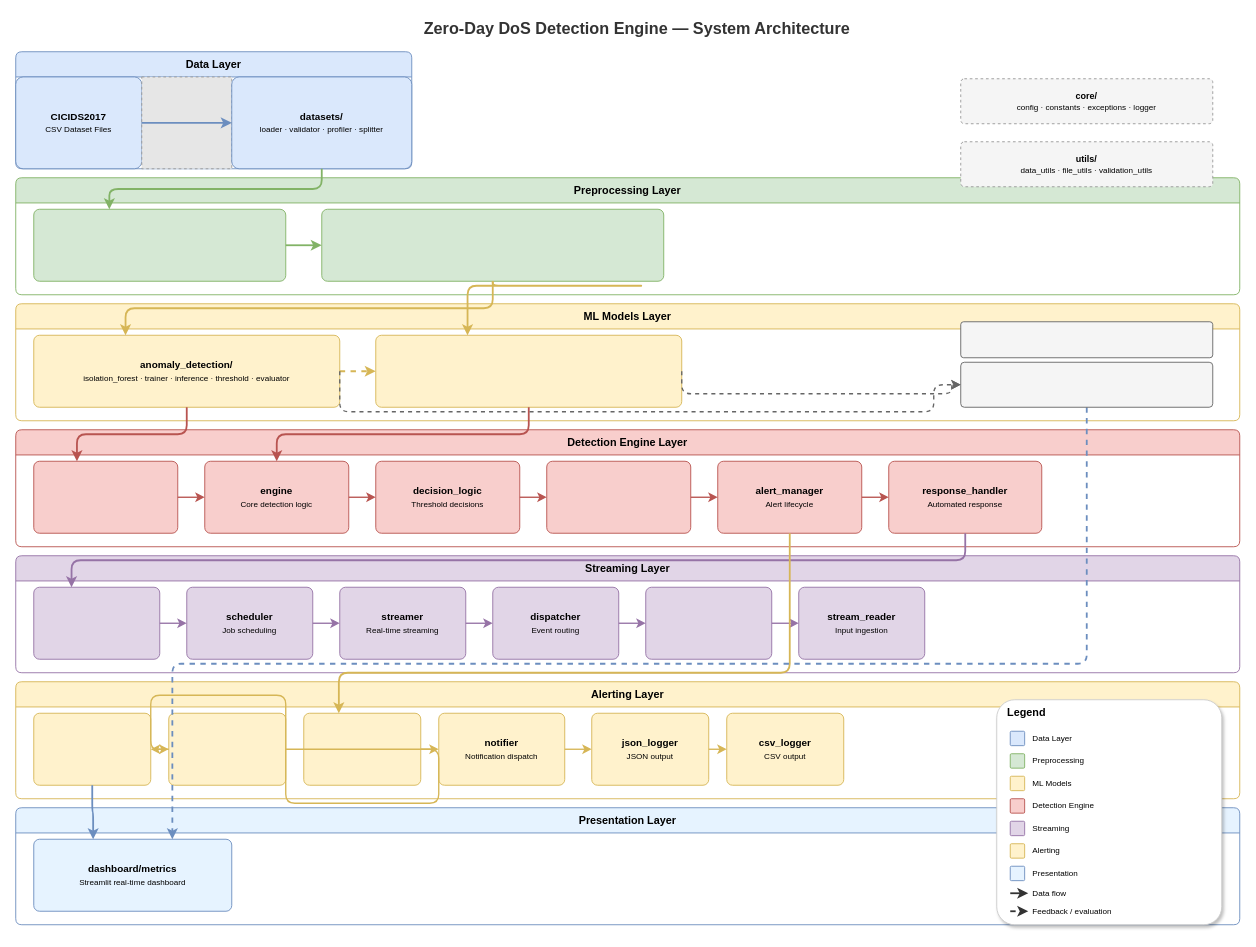
This 1256x947 diagram has some shape labels left out. Grey dashed boxes stand in for pictures. Here are the shapes that lost their labels. From the top down, the centre of each, then its label:
At pixel 159 244: "preprocessing/ cleaner · encoder · scaler · imputer · pipeline".
At pixel 492 244: "features/ selector · transformer · schema · extractor · engineering · importance".
At pixel 1086 339: "evaluation/".
At pixel 528 370: "classification/ random_forest · trainer · inference · importance · evaluator".
At pixel 1086 384: "metrics · reports · confusion · roc latency · throughput".
At pixel 105 496: "orchestrator Central coordination".
At pixel 618 496: "severity Alert classification".
At pixel 96 622: "simulator Traffic simulation".
At pixel 708 622: "microbatch Batch processing".
At pixel 92 748: "logger Alert logging".
At pixel 227 748: "formatter Alert formatting".
At pixel 362 748: "generator Alert creation".
